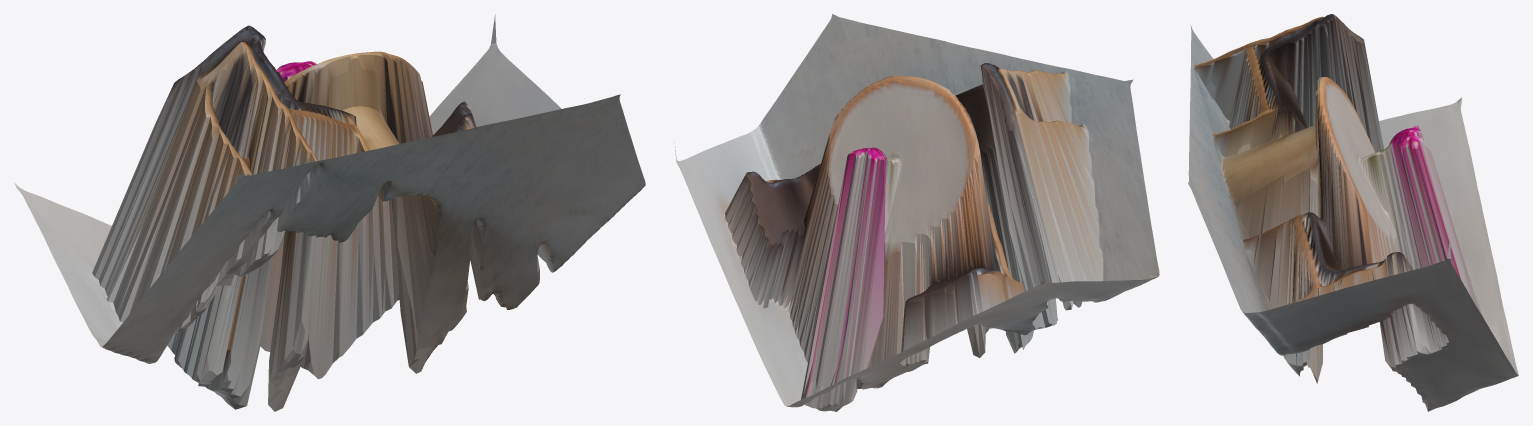
Rendered from vggt_mesh.obj.
The picture shows the model from 3 angles, left to right: view 1: azimuth 30°, elevation 25°; view 2: azimuth 150°, elevation 25°; view 3: azimuth 270°, elevation 25°; orthographic projection. The views are drawn at different scales.
Size of the model in its own units: 1.03 by 0.7993 by 0.6942.
